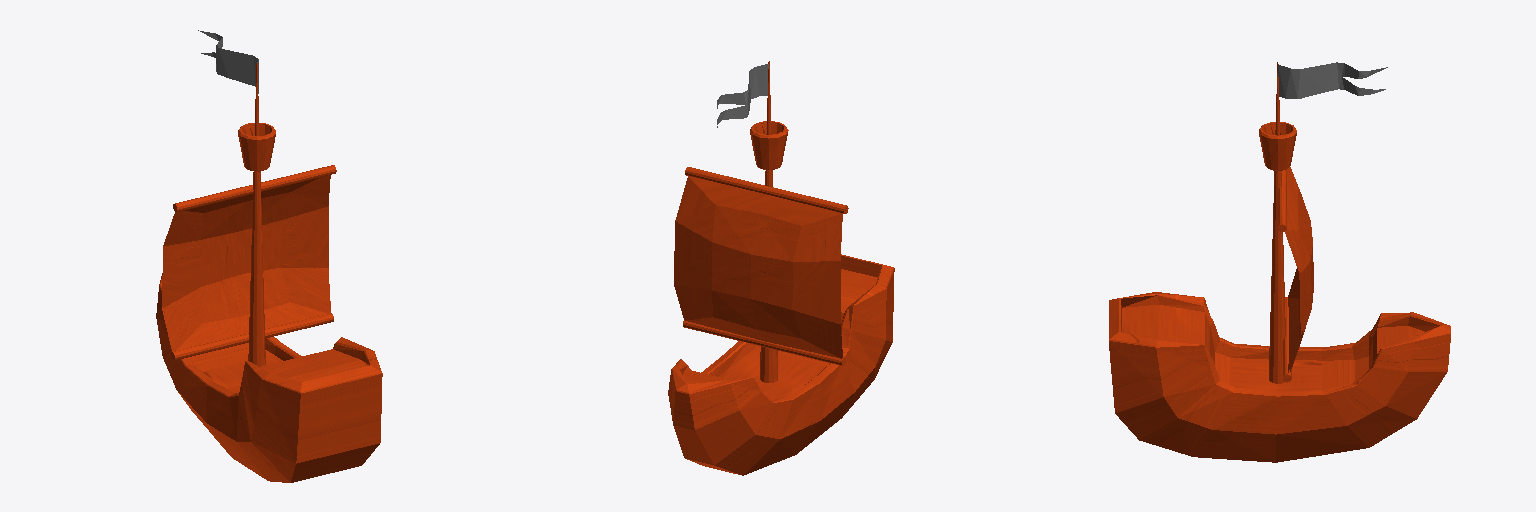
3 renders of one model, left to right at view 1: azimuth 30°, elevation 25°; view 2: azimuth 150°, elevation 25°; view 3: azimuth 270°, elevation 25°, orthographic.
Parts seen in each view (by area): view 1: Sail, Ship, Mast, Flag; view 2: Sail, Ship, Mast, Flag; view 3: Ship, Sail, Mast, Flag.
Part boxes in pixels (bbox=[...]): Sail: bbox=[162, 165, 336, 360]; Ship: bbox=[156, 273, 382, 482]; Mast: bbox=[238, 63, 275, 366]; Flag: bbox=[198, 30, 258, 93]; Sail: bbox=[674, 167, 848, 365]; Ship: bbox=[668, 254, 894, 475]; Mast: bbox=[750, 61, 788, 382]; Flag: bbox=[717, 64, 768, 127]; Ship: bbox=[1109, 292, 1450, 462]; Sail: bbox=[1278, 167, 1313, 382]; Mast: bbox=[1259, 62, 1296, 383]; Flag: bbox=[1278, 62, 1387, 98].
Size of the model in its own units: 1.98 by 4.43 by 3.55.
Materials: 1 (1 with a texture image).